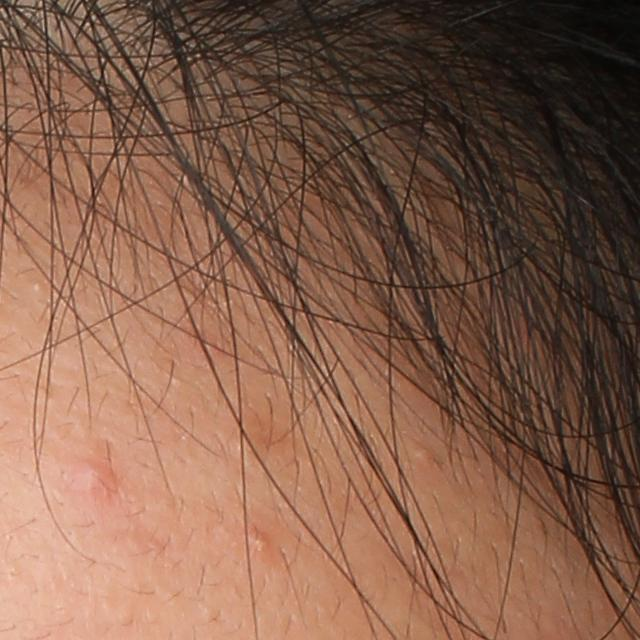comedo: (414, 445, 436, 467)
papule: (62, 458, 115, 498), (238, 527, 276, 562)
